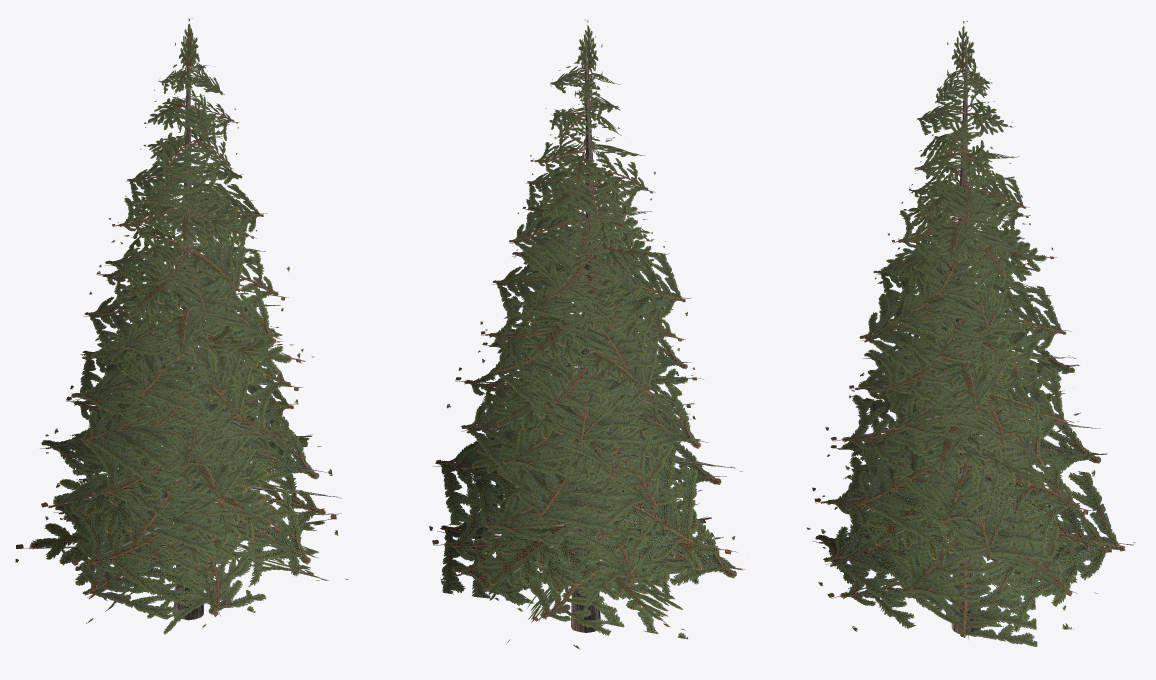
The model's file is CW_CardedAlpineFir.fbx.
3 renders of one model, left to right at view 1: azimuth 30°, elevation 25°; view 2: azimuth 150°, elevation 25°; view 3: azimuth 270°, elevation 25°, orthographic.
Visible parts, largest first — view 1: CW_CardedAlpineFir_Needles, CW_CardedAlpineFir_Wood; view 2: CW_CardedAlpineFir_Needles, CW_CardedAlpineFir_Wood; view 3: CW_CardedAlpineFir_Needles, CW_CardedAlpineFir_Wood.
Boxes of the visible parts, x1=… form: CW_CardedAlpineFir_Needles: x1=15, y1=18, x2=348, y2=634; CW_CardedAlpineFir_Wood: x1=16, y1=35, x2=341, y2=620; CW_CardedAlpineFir_Needles: x1=429, y1=19, x2=742, y2=649; CW_CardedAlpineFir_Wood: x1=433, y1=33, x2=745, y2=632; CW_CardedAlpineFir_Needles: x1=807, y1=21, x2=1135, y2=646; CW_CardedAlpineFir_Wood: x1=812, y1=35, x2=1130, y2=638.
Size of the model in its own units: 4.87 by 9.01 by 4.76.
2 materials, 2 textured.
